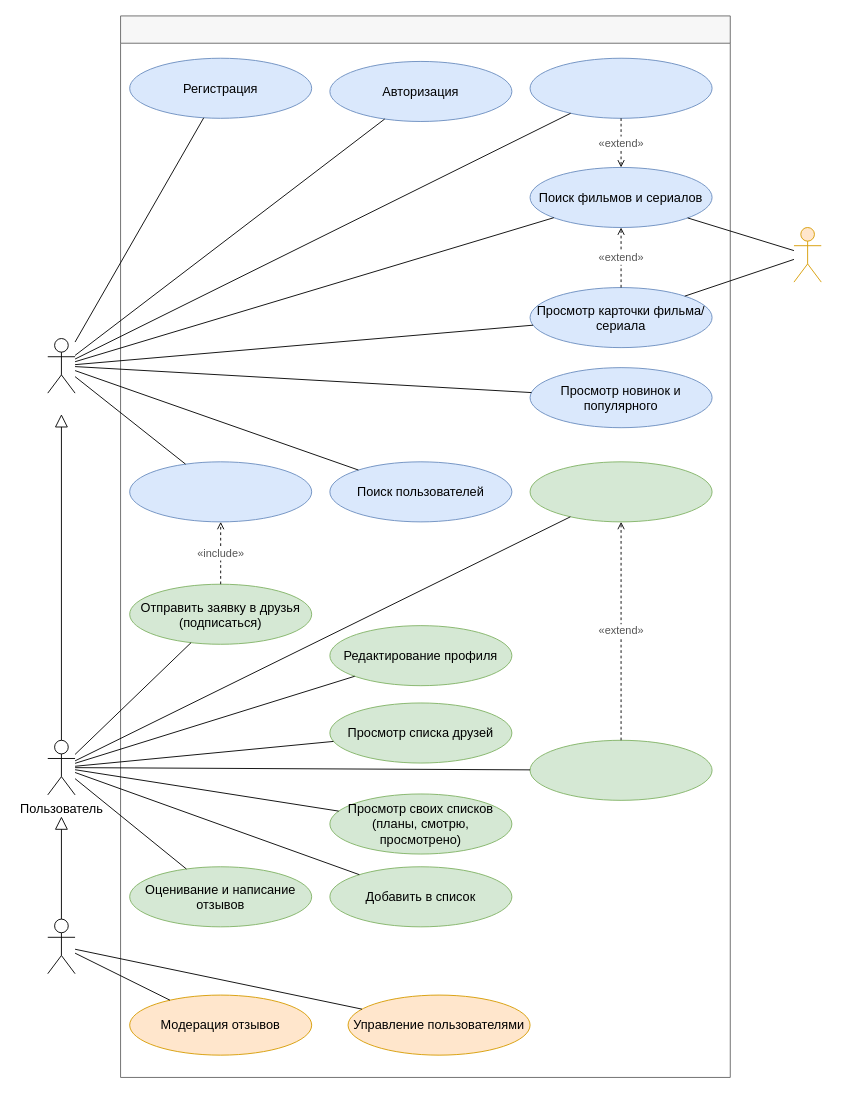
Image size: 863x1094. Some labels were removed from this diagram. Here are the shapes that lost their labels. From the top down, the box of each, then its label:
(529, 57, 712, 118): Сортировка и фильтрация
(793, 227, 821, 282): Kinopoisk API
(47, 338, 75, 393): Гость
(129, 461, 312, 522): Просмотр профиля пользователя
(529, 461, 712, 522): Просмотр списка подписчиков
(120, 15, 730, 1077): Веб-приложение для поиска и отслеживания фильмов
(529, 739, 712, 800): Подписаться в ответ
(47, 918, 75, 974): Администратор
